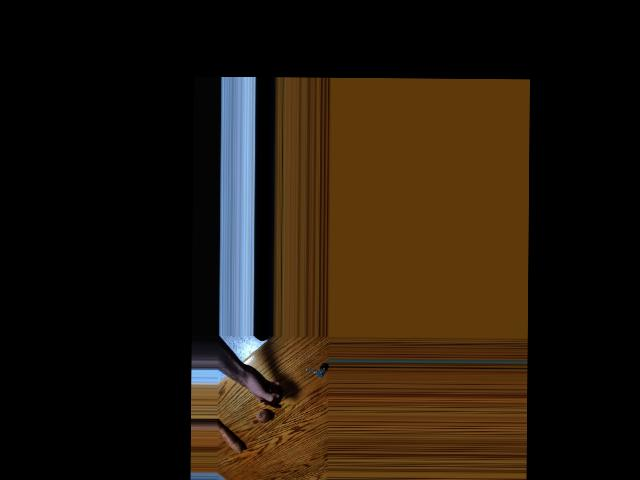onion: (256, 407, 270, 423)
